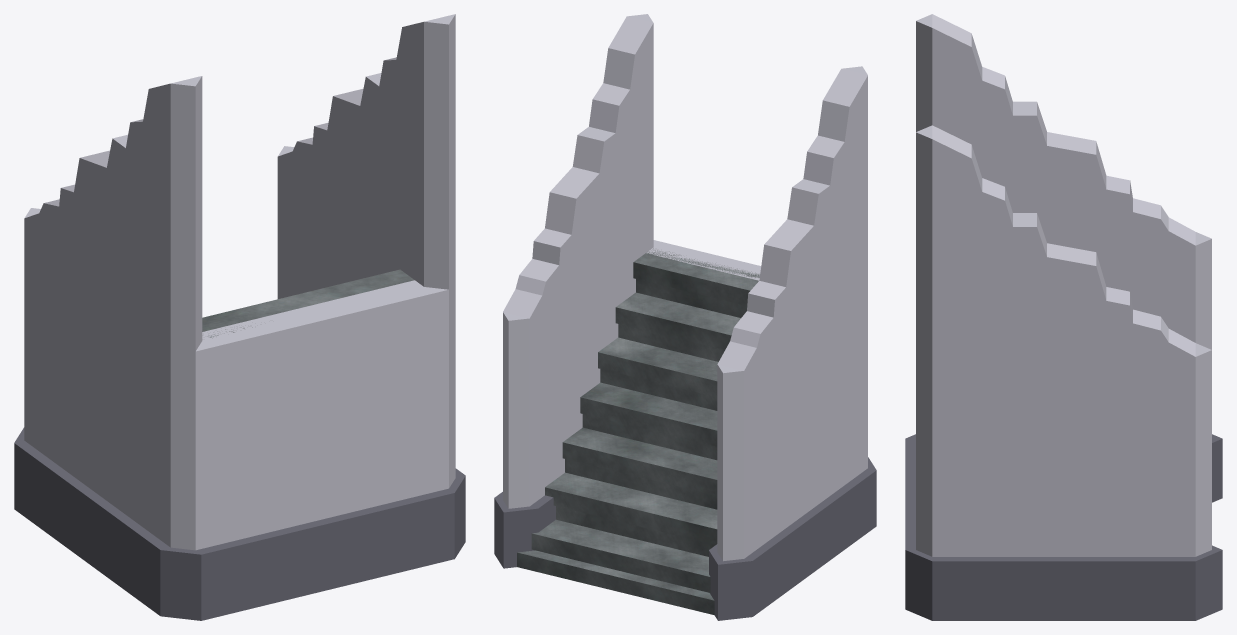
The model's file is sm_hallway_stair_01.fbx.
3 views of the same model, side by side, from view 1: azimuth 30°, elevation 25°; view 2: azimuth 150°, elevation 25°; view 3: azimuth 270°, elevation 25° (orthographic). The views are drawn at different scales.
Parts seen in each view (by area): view 1: wall_01_187, wall_01_172, wall_ruined_189, wall_ruined_188, wall_01_176, stairs_04_186; view 2: stairs_04_186, wall_01_172, wall_ruined_188, wall_ruined_189, wall_01_176, floor_square_169, wall_01_187; view 3: wall_01_176, wall_ruined_188, wall_ruined_189, wall_01_172, wall_01_187.
Part boxes in pixels (x1,y1,x2,y2): wall_01_187: [195, 279, 465, 620]; wall_01_172: [14, 242, 205, 620]; wall_ruined_189: [24, 76, 202, 351]; wall_ruined_188: [277, 14, 455, 289]; wall_01_176: [277, 180, 465, 492]; stairs_04_186: [202, 269, 414, 338]; stairs_04_186: [531, 248, 760, 592]; wall_01_172: [709, 300, 876, 620]; wall_ruined_188: [503, 14, 653, 340]; wall_ruined_189: [717, 66, 867, 392]; wall_01_176: [494, 262, 635, 568]; floor_square_169: [517, 550, 714, 615]; wall_01_187: [646, 240, 876, 471]; wall_01_176: [932, 371, 1222, 620]; wall_ruined_188: [916, 125, 1211, 377]; wall_ruined_189: [916, 14, 1211, 266]; wall_01_172: [1100, 260, 1222, 502]; wall_01_187: [905, 371, 941, 620].
Bounding box in the file's own units: 12.05 × 20 × 12.05.
